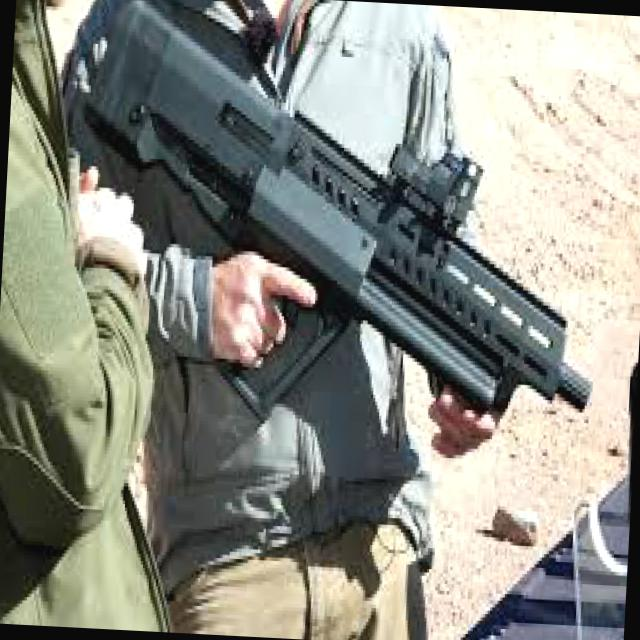long weapon: (36, 0, 603, 471)
